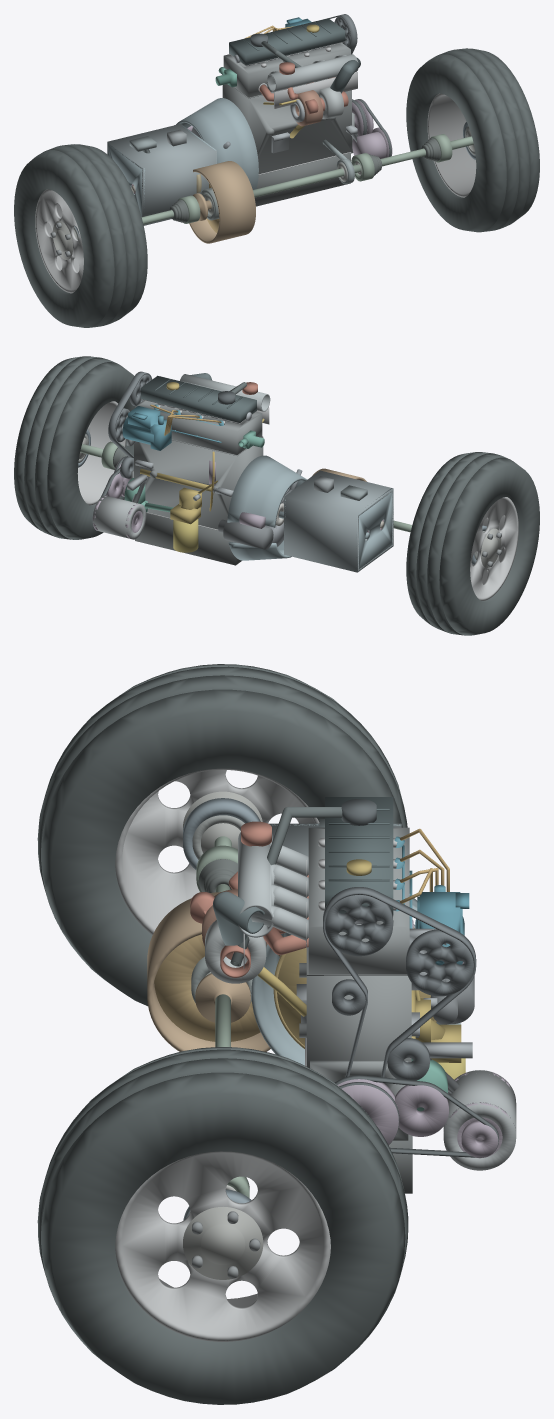
File: engine_assembly.glb
3 views of the same model, one above another, from view 1: azimuth 30°, elevation 25°; view 2: azimuth 150°, elevation 25°; view 3: azimuth 270°, elevation 25° (orthographic). The views are drawn at different scales.
Visible parts, largest first — view 1: drive_tyre_left, drive_tyre_right, block, drive_gearcase, drive_diff_housing, drive_bellhousing, drive_rim_left, drive_rim_right, valve_cover, sump, head, intake_manifold (+10 smaller); view 2: drive_tyre_left, drive_tyre_right, drive_gearcase, block, drive_bellhousing, drive_rim_left, head, valve_cover, sump, drive_rim_right, drive_case_rear, alternator (+9 smaller); view 3: drive_tyre_right, drive_tyre_left, drive_rim_right, drive_rim_left, block, head, intake_manifold, valve_cover, alternator, drive_crown, drive_hub_right, drive_diff_housing (+22 smaller).
Part boxes in pixels (box(x1,y1,x2,y2)): drive_tyre_left: box(14, 144, 147, 327); drive_tyre_right: box(406, 48, 539, 232); block: box(222, 84, 351, 174); drive_gearcase: box(107, 124, 216, 225); drive_diff_housing: box(189, 161, 255, 243); drive_bellhousing: box(176, 98, 258, 189); drive_rim_left: box(35, 189, 83, 293); drive_rim_right: box(427, 93, 476, 197); valve_cover: box(229, 18, 345, 65); sump: box(254, 152, 350, 206); head: box(223, 43, 350, 97); intake_manifold: box(267, 54, 358, 91); drive_tyre_left: box(406, 452, 539, 635); drive_tyre_right: box(14, 356, 135, 539); drive_gearcase: box(284, 470, 393, 572); block: box(134, 437, 263, 529); drive_bellhousing: box(227, 455, 307, 560); drive_rim_left: box(470, 497, 518, 600); head: box(135, 400, 262, 454); valve_cover: box(140, 375, 256, 422); sump: box(135, 513, 241, 565); drive_rim_right: box(77, 401, 126, 505); drive_case_rear: box(356, 488, 393, 571); alternator: box(92, 495, 146, 539); drive_tyre_right: box(37, 1047, 408, 1404); drive_tyre_left: box(37, 664, 407, 1006); drive_rim_right: box(115, 1151, 330, 1341); drive_rim_left: box(115, 768, 319, 934); block: box(299, 963, 418, 1068); head: box(308, 827, 409, 974); intake_manifold: box(238, 832, 308, 940); valve_cover: box(325, 797, 393, 915); alternator: box(443, 1070, 516, 1170); drive_crown: box(154, 934, 260, 1041); drive_hub_right: box(183, 1207, 263, 1279); drive_diff_housing: box(147, 892, 280, 1051).
Bounding box in the file's own units: 1.79 × 0.8028 × 0.8438.
